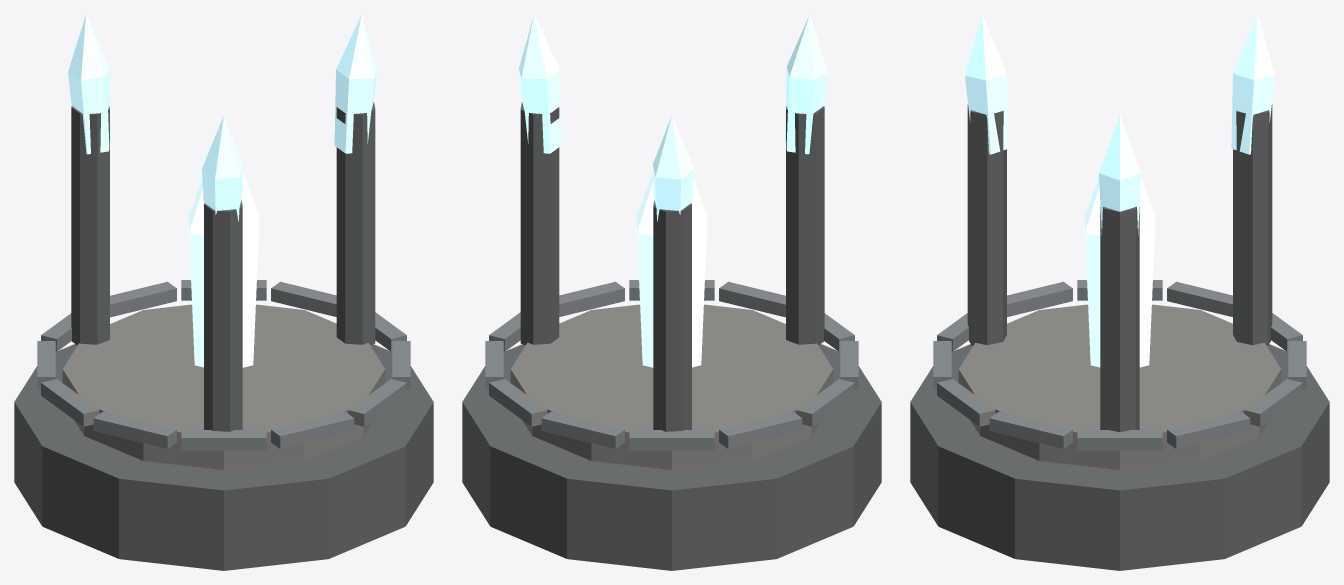
File: seidr-ritual-focus.glb
3 renders of one model, left to right at view 1: azimuth 30°, elevation 25°; view 2: azimuth 150°, elevation 25°; view 3: azimuth 270°, elevation 25°, orthographic.
Visible parts, largest first — view 1: ritual-base, rune-disk, ritual-pillar-0, ritual-pillar-1, ritual-pillar-2, ritual-heart, ritual-node-0, ritual-node-2, ritual-node-1, outer-runes-3, outer-runes-5, outer-runes-4 (+8 smaller); view 2: ritual-base, rune-disk, ritual-pillar-0, ritual-pillar-2, ritual-pillar-1, ritual-heart, ritual-node-0, ritual-node-1, ritual-node-2, outer-runes-7, outer-runes-9, outer-runes-8 (+8 smaller); view 3: ritual-base, rune-disk, ritual-pillar-0, ritual-pillar-1, ritual-pillar-2, ritual-heart, ritual-node-1, ritual-node-2, ritual-node-0, outer-runes-1, outer-runes-11, outer-runes-0 (+8 smaller).
Boxes of the visible parts, box(x1,y1,x2,y2) form: ritual-base: box(14, 344, 433, 570); rune-disk: box(62, 304, 385, 469); ritual-pillar-0: box(336, 102, 375, 345); ritual-pillar-1: box(204, 200, 242, 431); ritual-pillar-2: box(71, 106, 109, 345); ritual-heart: box(189, 173, 258, 367); ritual-node-0: box(334, 14, 376, 153); ritual-node-2: box(68, 14, 110, 154); ritual-node-1: box(202, 115, 243, 221); outer-runes-3: box(271, 411, 354, 448); outer-runes-5: box(93, 411, 176, 448); outer-runes-4: box(181, 430, 266, 450); ritual-base: box(462, 344, 881, 570); rune-disk: box(510, 304, 833, 469); ritual-pillar-0: box(520, 102, 559, 345); ritual-pillar-2: box(653, 200, 691, 431); ritual-pillar-1: box(786, 106, 824, 345); ritual-heart: box(637, 173, 706, 367); ritual-node-0: box(519, 14, 561, 153); ritual-node-1: box(785, 14, 827, 154); ritual-node-2: box(652, 115, 693, 221); outer-runes-7: box(719, 411, 802, 448); outer-runes-9: box(541, 411, 624, 448); outer-runes-8: box(629, 430, 714, 450); ritual-base: box(910, 344, 1329, 570); rune-disk: box(958, 304, 1281, 469); ritual-pillar-0: box(1100, 206, 1139, 432); ritual-pillar-1: box(967, 104, 1006, 345); ritual-pillar-2: box(1233, 104, 1272, 345); ritual-heart: box(1085, 178, 1154, 367); ritual-node-1: box(965, 14, 1008, 154); ritual-node-2: box(1231, 14, 1274, 154); ritual-node-0: box(1099, 115, 1140, 234); outer-runes-1: box(989, 411, 1072, 448); outer-runes-11: box(1167, 411, 1250, 448); outer-runes-0: box(1077, 430, 1162, 450).
Size of the model in its own units: 1.04 by 1.19 by 1.04.
